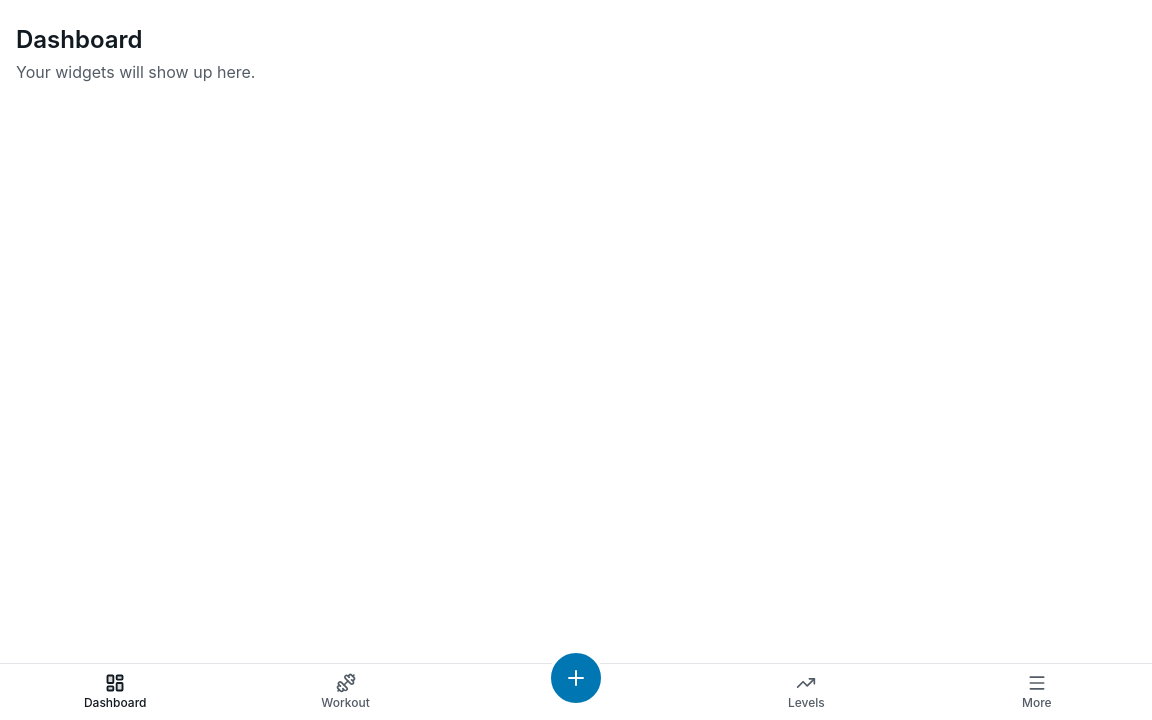
App shell › reaches Settings and the Exercise Library through the More menu
Click the link "More".
click(1037, 692)  # box [1022, 673, 1052, 710]
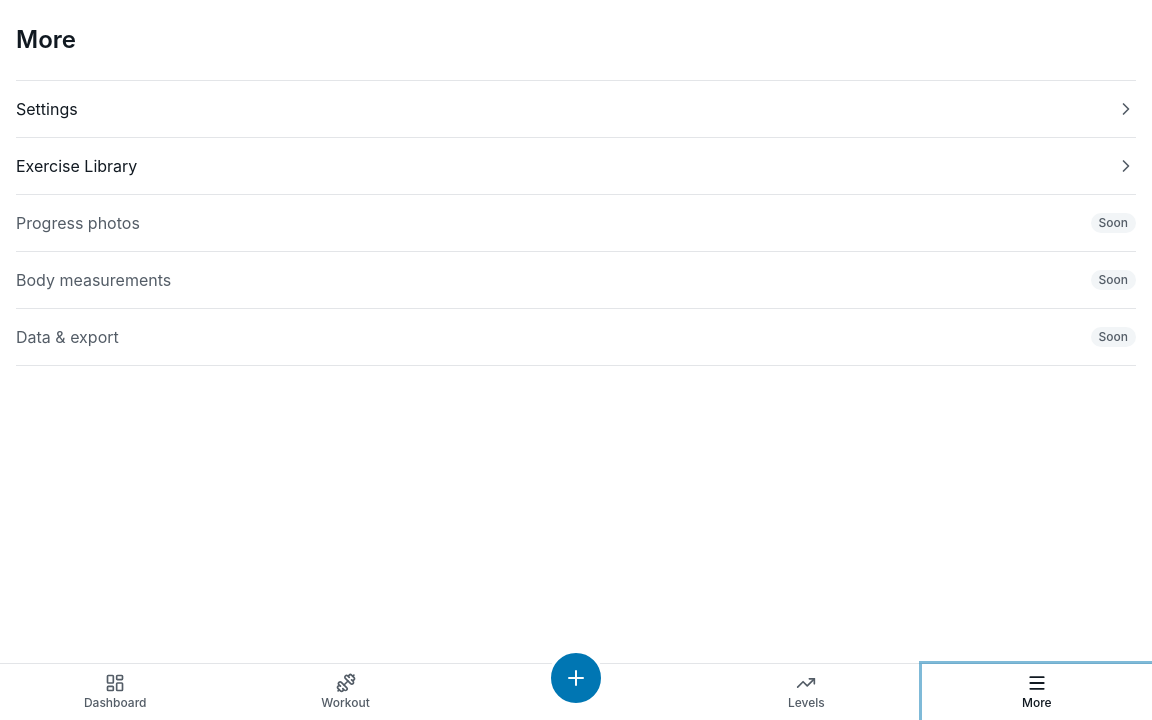
Click the link "Settings".
click(47, 109)  # box [16, 99, 1136, 119]
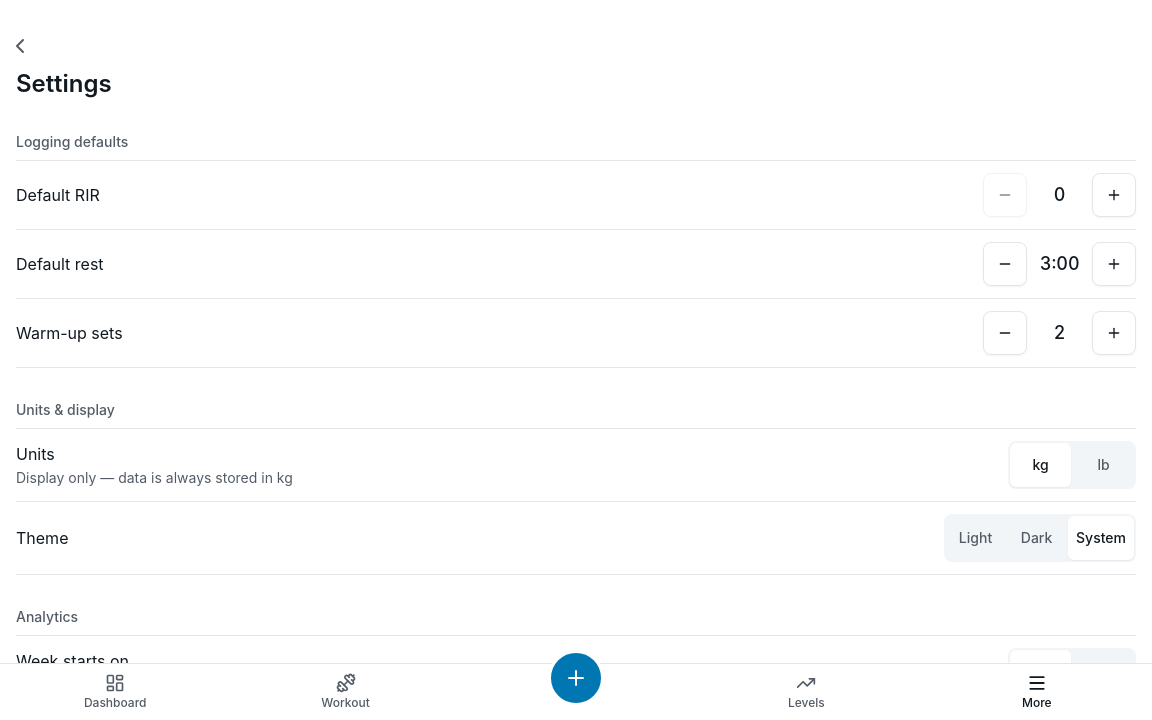
expect the heading "Settings" is shown: met, box [16, 69, 112, 98]
Click the link "More".
click(1037, 692)  # box [1022, 673, 1052, 710]
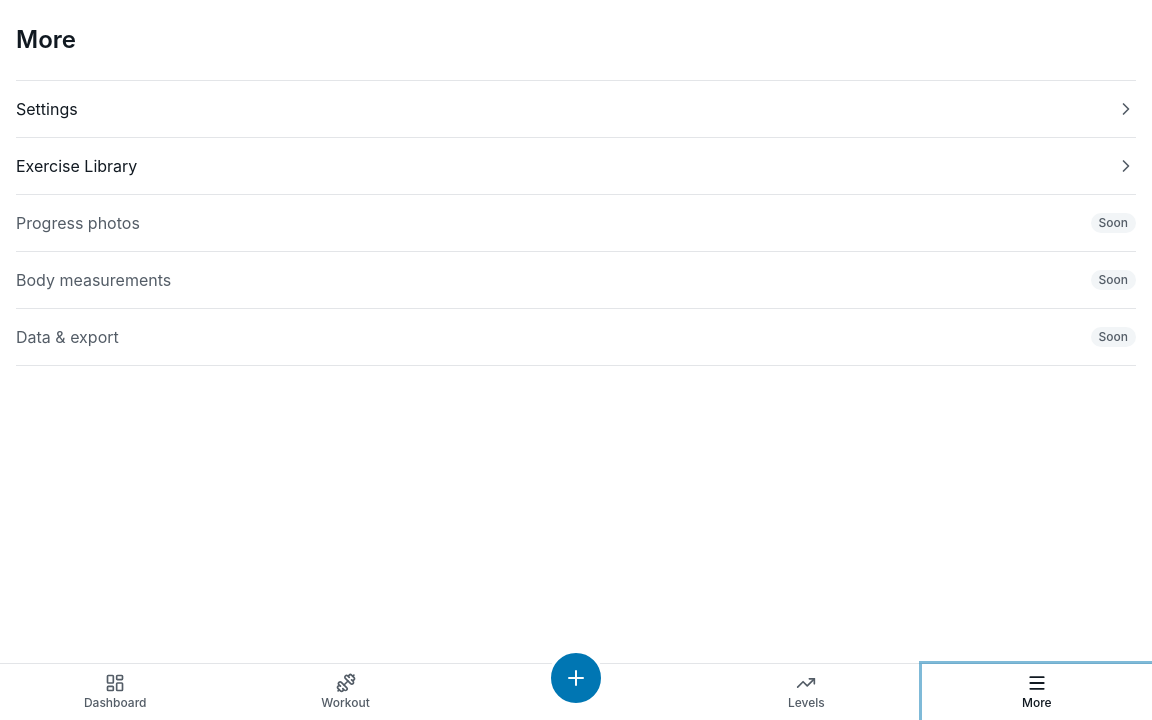
Click the link "Exercise Library".
click(77, 166)  # box [16, 156, 1136, 176]
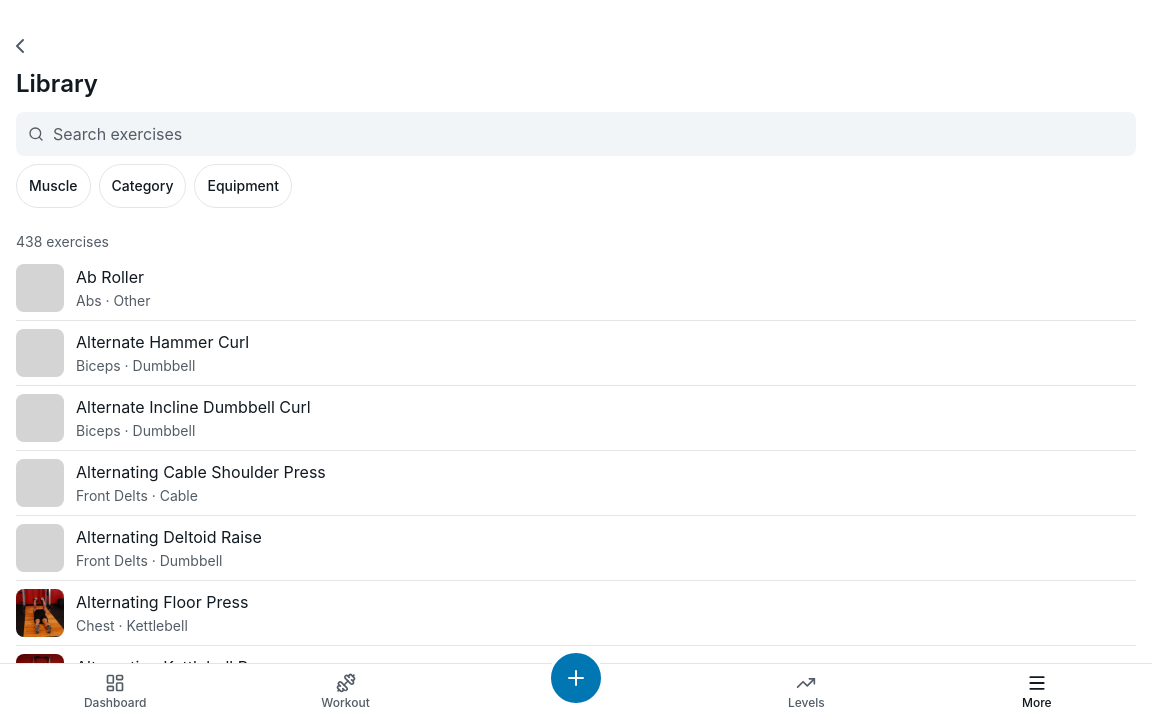
expect the heading "Library" is shown: met, box [16, 69, 98, 98]
